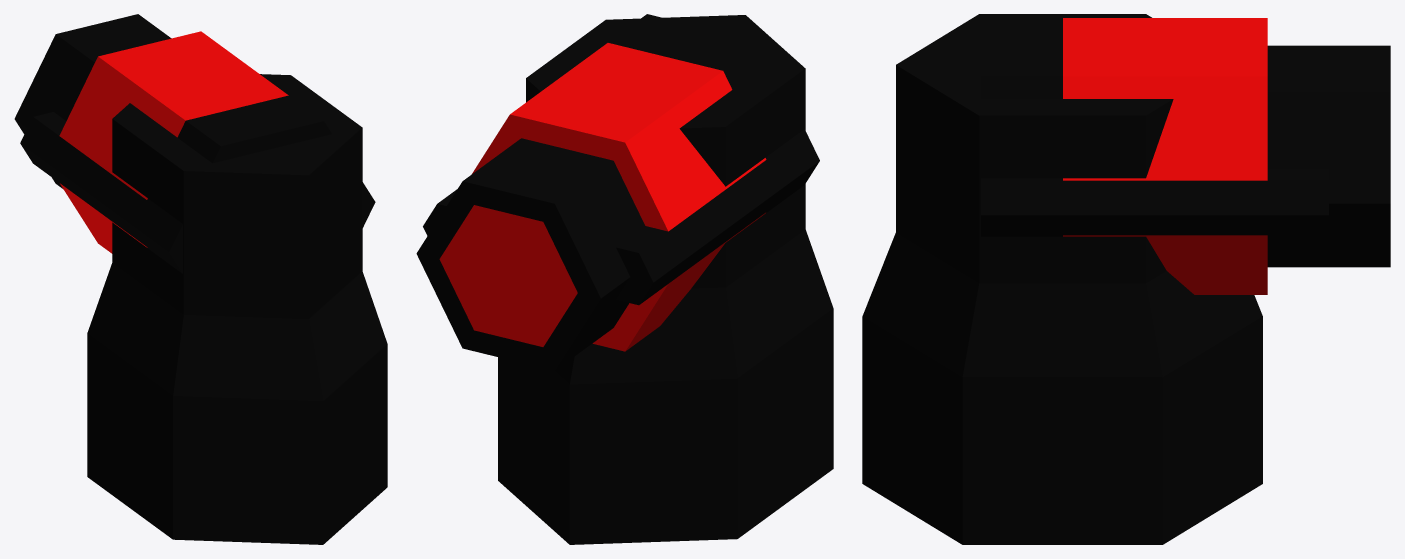
Rendered from canontower.glb.
3 views of the same model, side by side, from view 1: azimuth 30°, elevation 25°; view 2: azimuth 150°, elevation 25°; view 3: azimuth 270°, elevation 25° (orthographic). The views are drawn at different scales.
Visible parts, largest first — view 1: mergedBlocks(Clone); view 2: mergedBlocks(Clone); view 3: mergedBlocks(Clone).
Boxes of the visible parts, x1=… form: mergedBlocks(Clone): x1=14, y1=14, x2=387, y2=544; mergedBlocks(Clone): x1=416, y1=14, x2=833, y2=544; mergedBlocks(Clone): x1=862, y1=14, x2=1390, y2=544.
Size of the model in its own units: 1.2 by 2 by 2.19.
